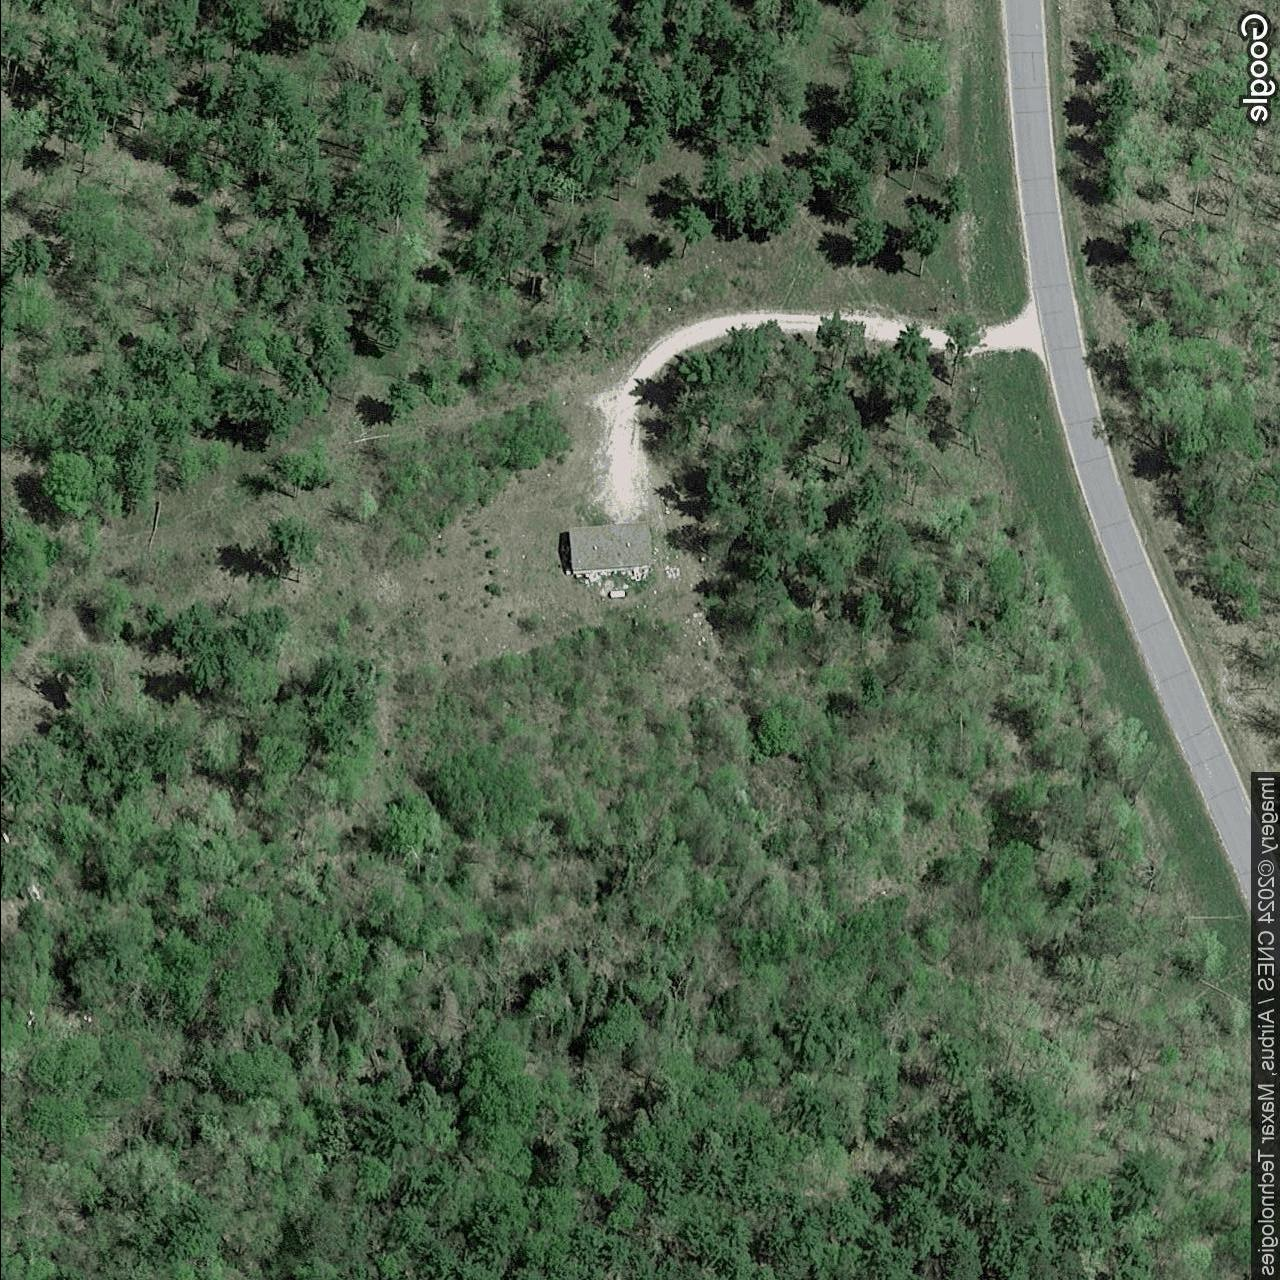House: (567, 522, 653, 576)
Propane: (606, 590, 628, 600)
